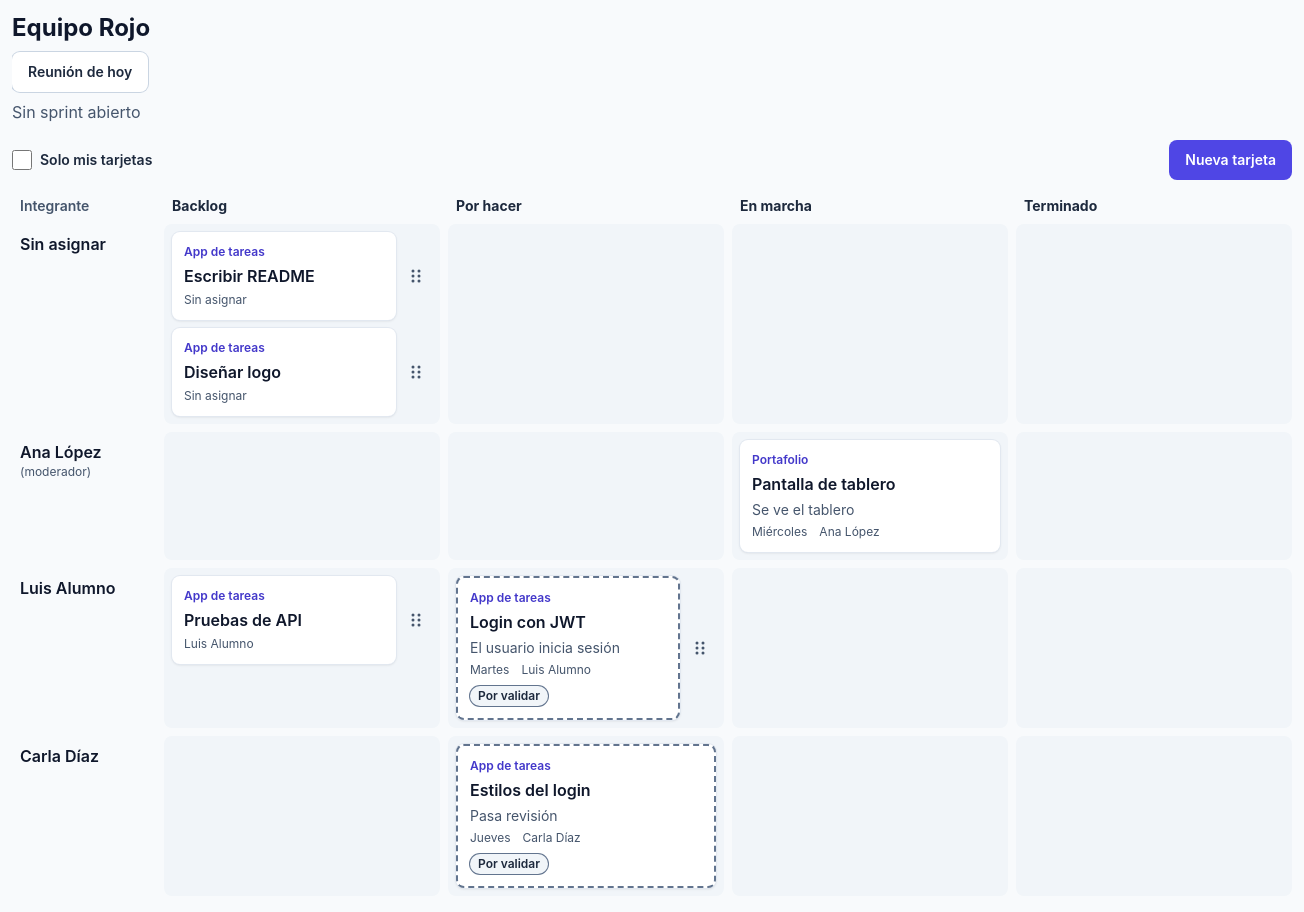
BoardPage › filters to the viewer row with "Solo mis tarjetas"
Step 1. Click the checkbox labelled "Solo mis tarjetas" → (22, 160), box [12,150,32,170]
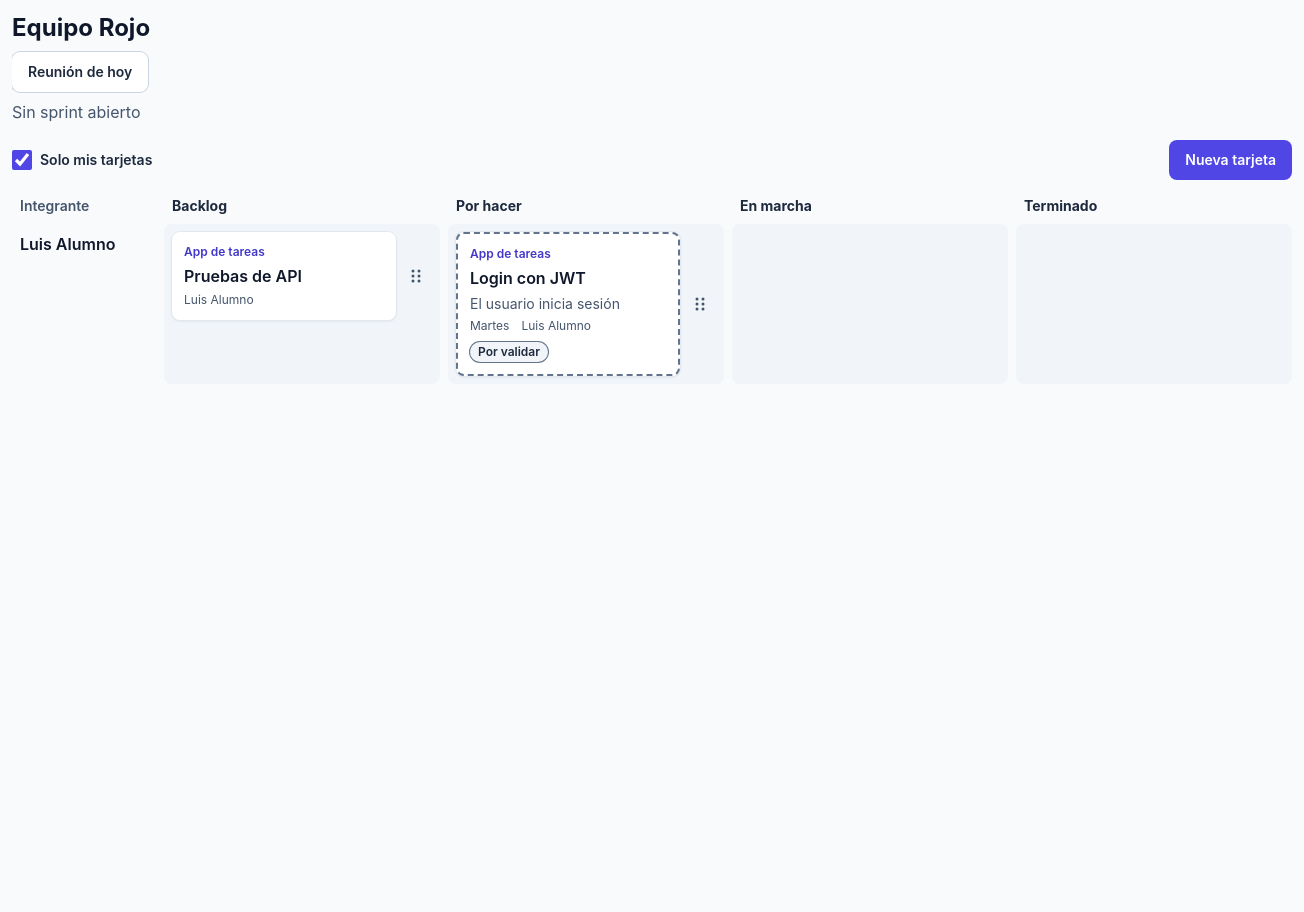
Check: the text "Login con JWT" is shown, box [470,268,586,288]
Check: the button "Pantalla de tablero" is gone
Check: the button "Diseñar logo" is gone
Step 2. Click the checkbox labelled "Solo mis tarjetas" → (22, 160), box [12,150,32,170]
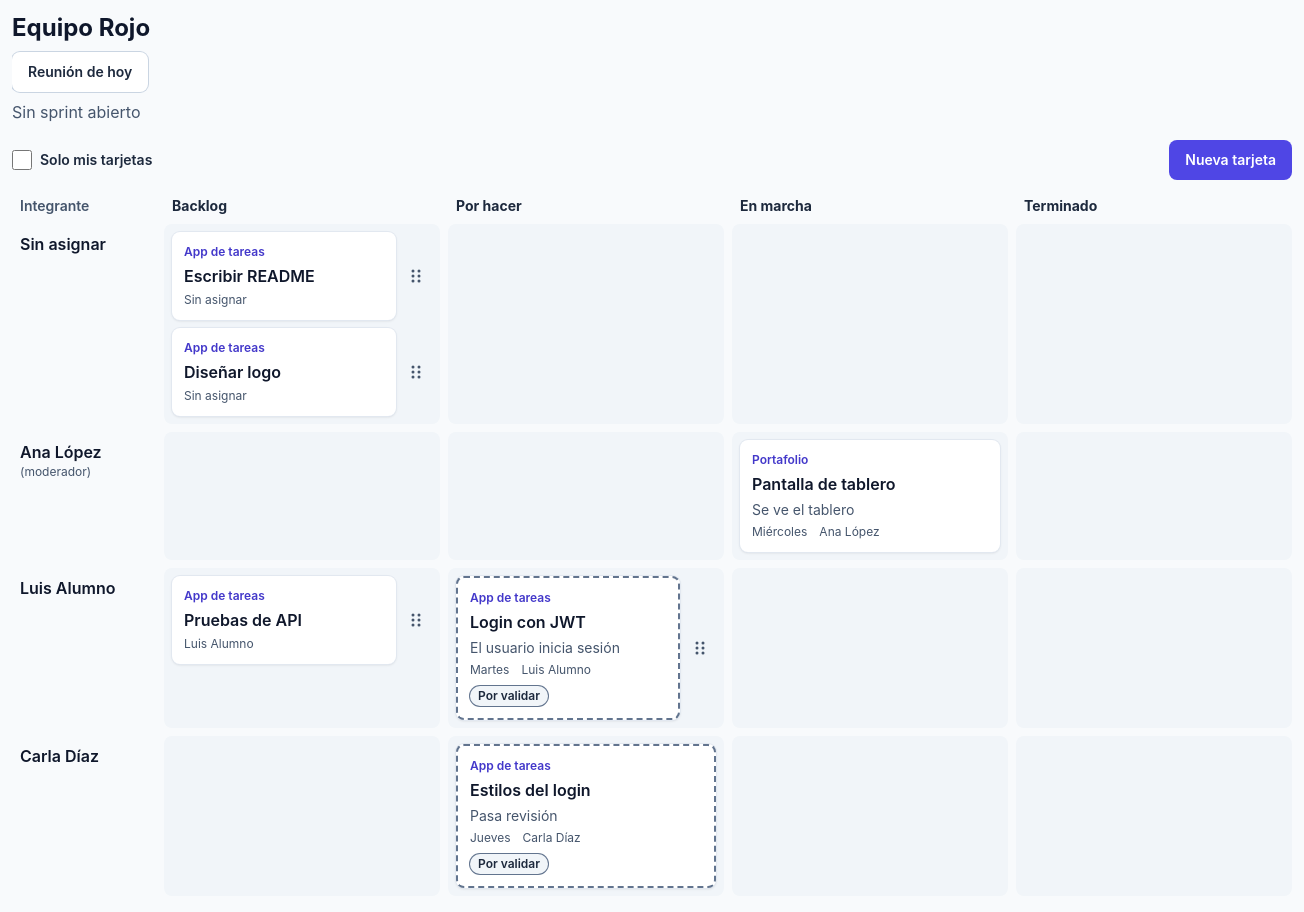
Check: the text "Pantalla de tablero" is shown, box [752,474,895,494]
